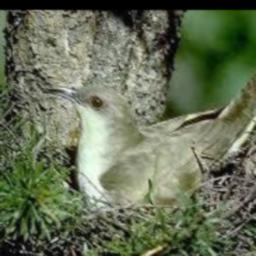Cuckoo: (41, 72, 256, 211)
